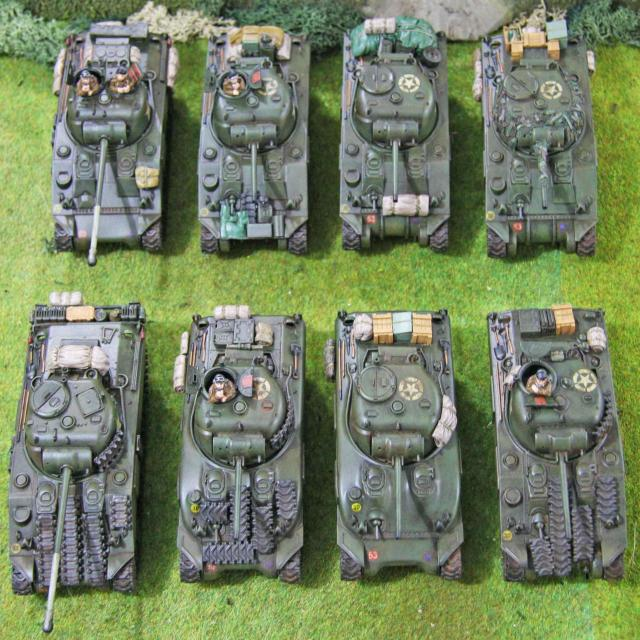Tanks: (2, 280, 152, 631), (328, 299, 486, 615), (166, 295, 322, 607), (468, 296, 632, 592), (466, 13, 608, 270), (48, 4, 170, 270), (334, 15, 458, 262), (196, 14, 312, 266)
